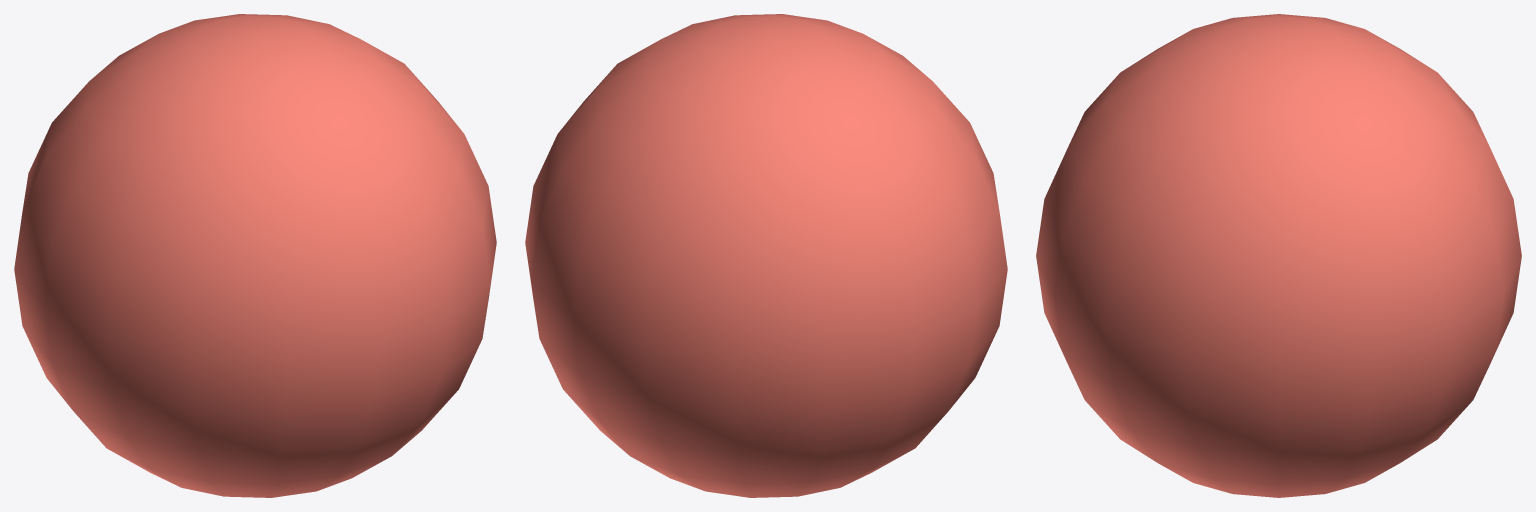
File: ribosome.glb
The picture shows the model from 3 angles, left to right: view 1: azimuth 30°, elevation 25°; view 2: azimuth 150°, elevation 25°; view 3: azimuth 270°, elevation 25°; orthographic projection.
Visible parts, largest first — view 1: Ribosome; view 2: Ribosome; view 3: Ribosome.
Part boxes in pixels (x1,y1,x2,y2): Ribosome: (14, 14, 496, 497); Ribosome: (525, 14, 1007, 497); Ribosome: (1036, 14, 1521, 497).
Bounding box in the file's own units: 0.16 × 0.16 × 0.16.
